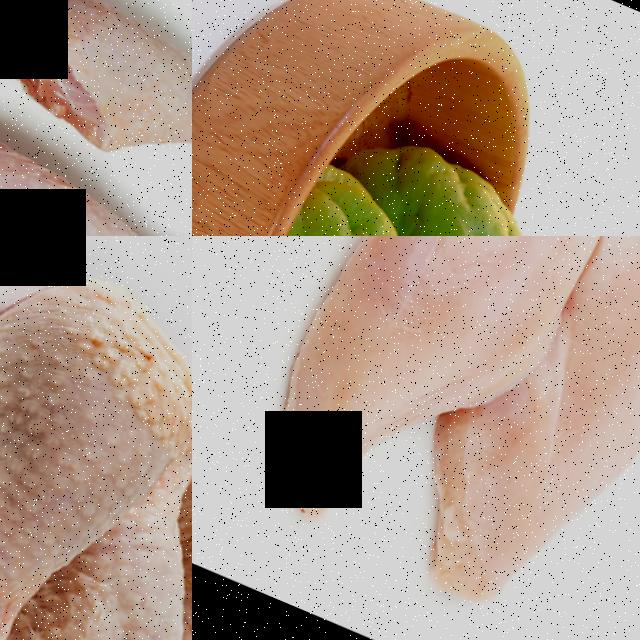chicken breast: (219, 236, 639, 528), (425, 236, 640, 640)
chicken thigh: (0, 236, 192, 640), (0, 0, 192, 236), (0, 113, 192, 236)
